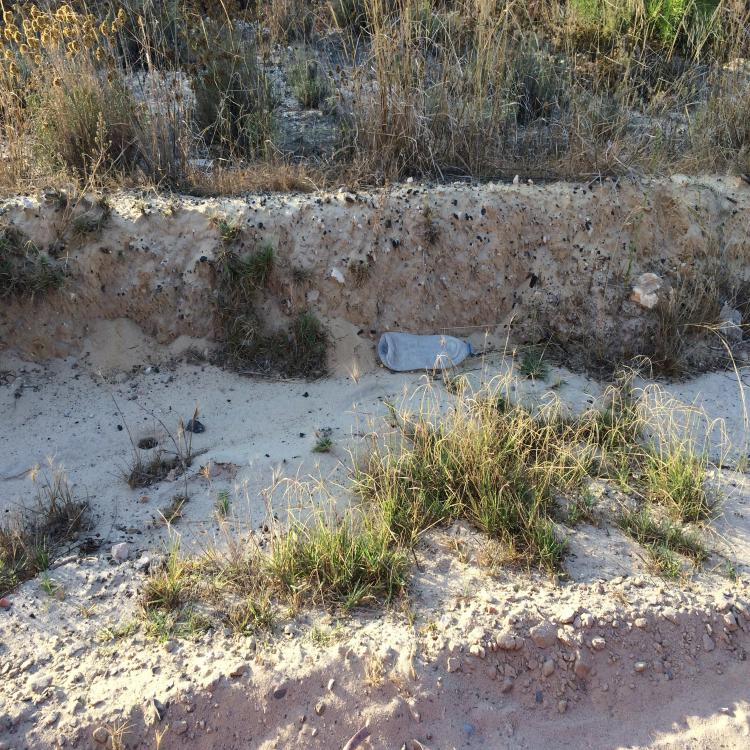Clear plastic bottle: (378, 332, 474, 371)
